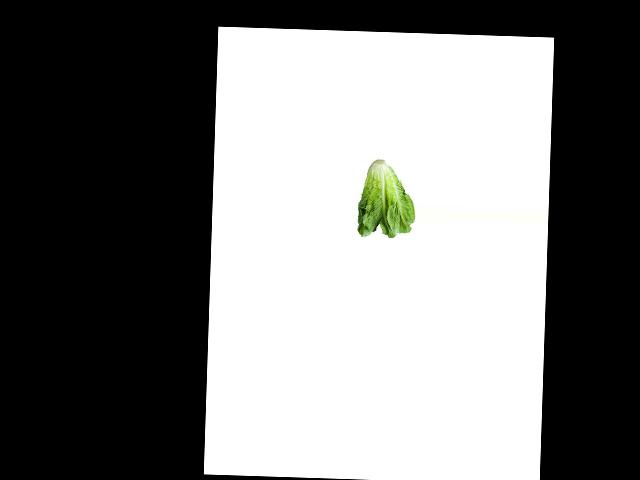lettuce: (355, 156, 416, 238)
